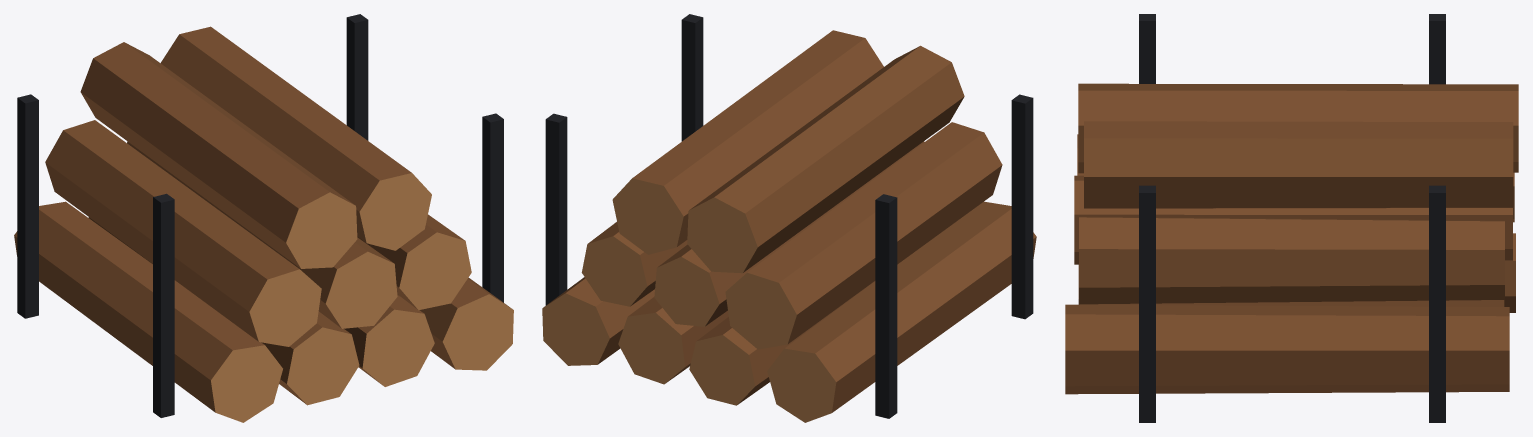
Rendered from Load_Logs.glb.
3 views of the same model, side by side, from view 1: azimuth 30°, elevation 25°; view 2: azimuth 150°, elevation 25°; view 3: azimuth 270°, elevation 25° (orthographic). The views are drawn at different scales.
Visible parts, largest first — view 1: Load_Logs_Mesh; view 2: Load_Logs_Mesh; view 3: Load_Logs_Mesh.
Part boxes in pixels (x1,y1,x2,y2): Load_Logs_Mesh: (14,14,513,422); Load_Logs_Mesh: (542,14,1036,422); Load_Logs_Mesh: (1065,14,1518,422).
Size of the model in its own units: 1.75 by 1.05 by 1.88.
1 material, 1 textured.
